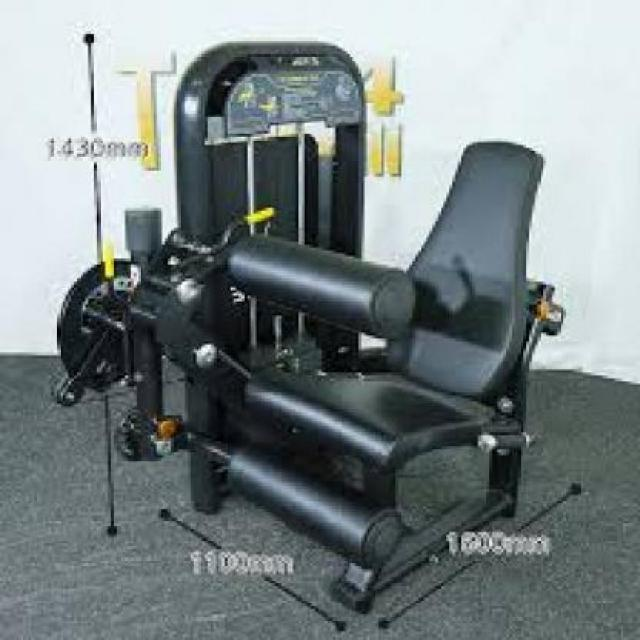leg extension: (38, 32, 571, 616)
